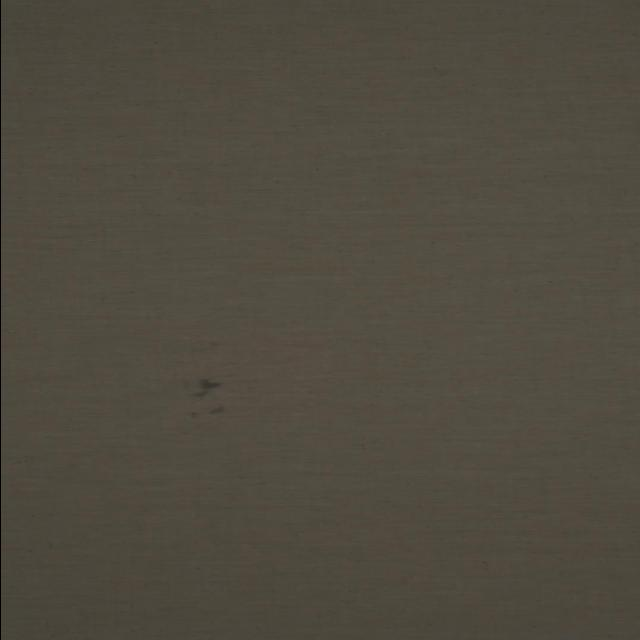dirty: (197, 378, 220, 391), (208, 406, 225, 414), (192, 392, 208, 399), (188, 412, 198, 420), (210, 342, 220, 348)
